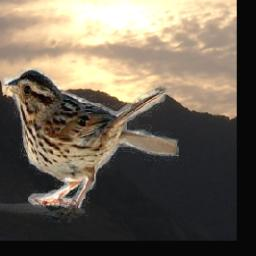Sparrow: (4, 67, 180, 222)
